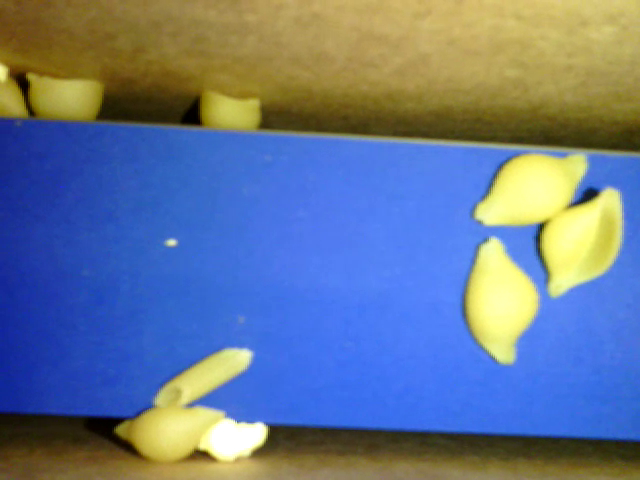penne: (153, 344, 253, 407)
shell: (464, 234, 538, 365), (539, 185, 623, 298), (472, 151, 589, 226), (110, 404, 225, 465), (25, 69, 106, 120), (199, 87, 261, 131)
